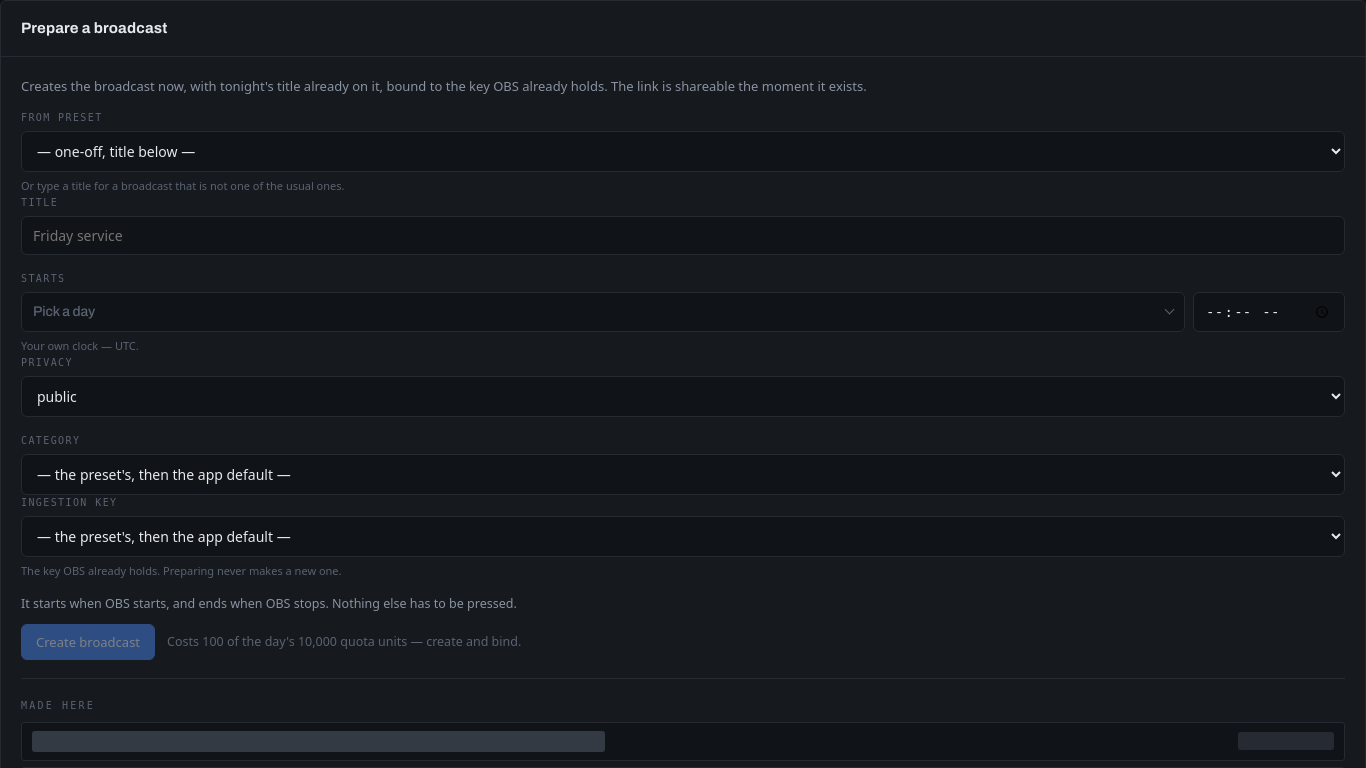
it: PrepareBroadcast › a templated preset › asks for the variables and shows the title as it will actually be created
Select "Service — {topic}" in the dropdown labelled "From preset" at (683, 152), box [21,131,1345,172]
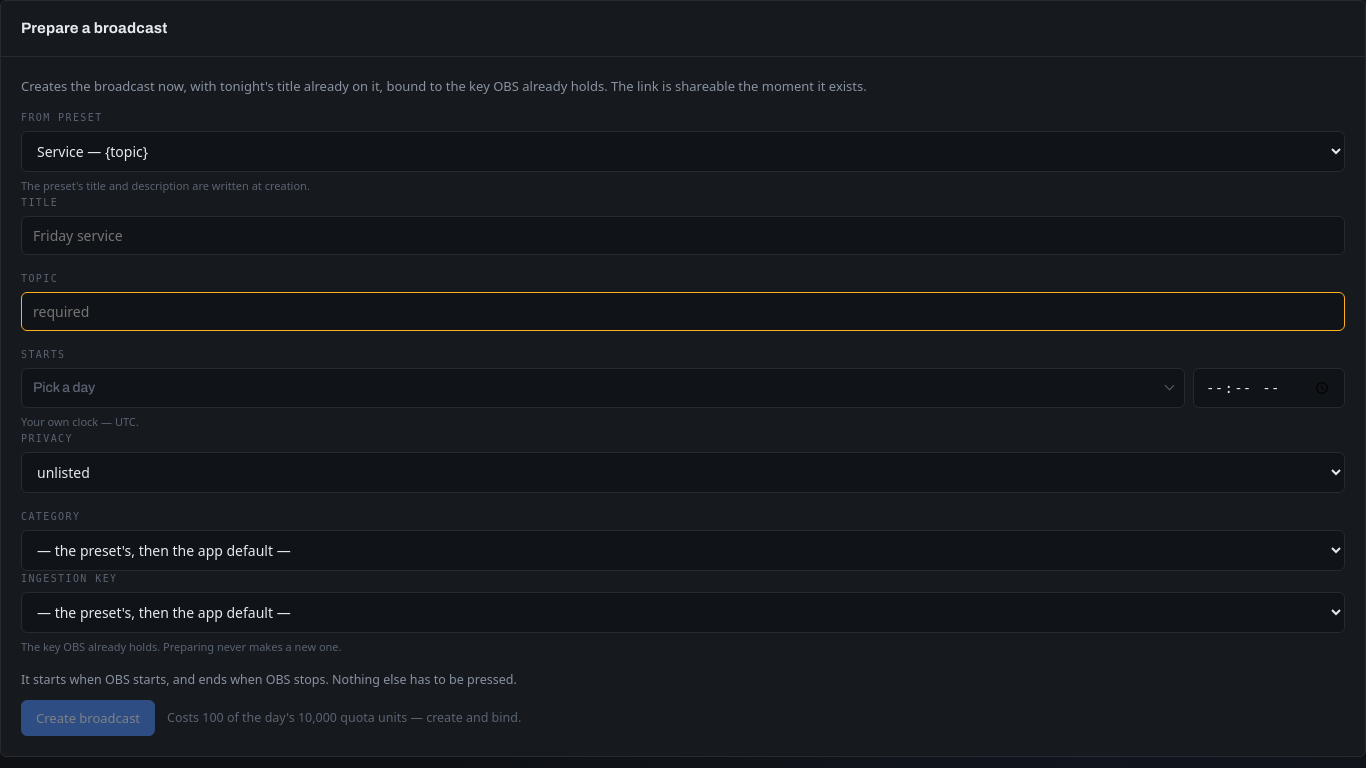
Click the button named "Starts ".
click(64, 388)  # box [21,368,1185,408]
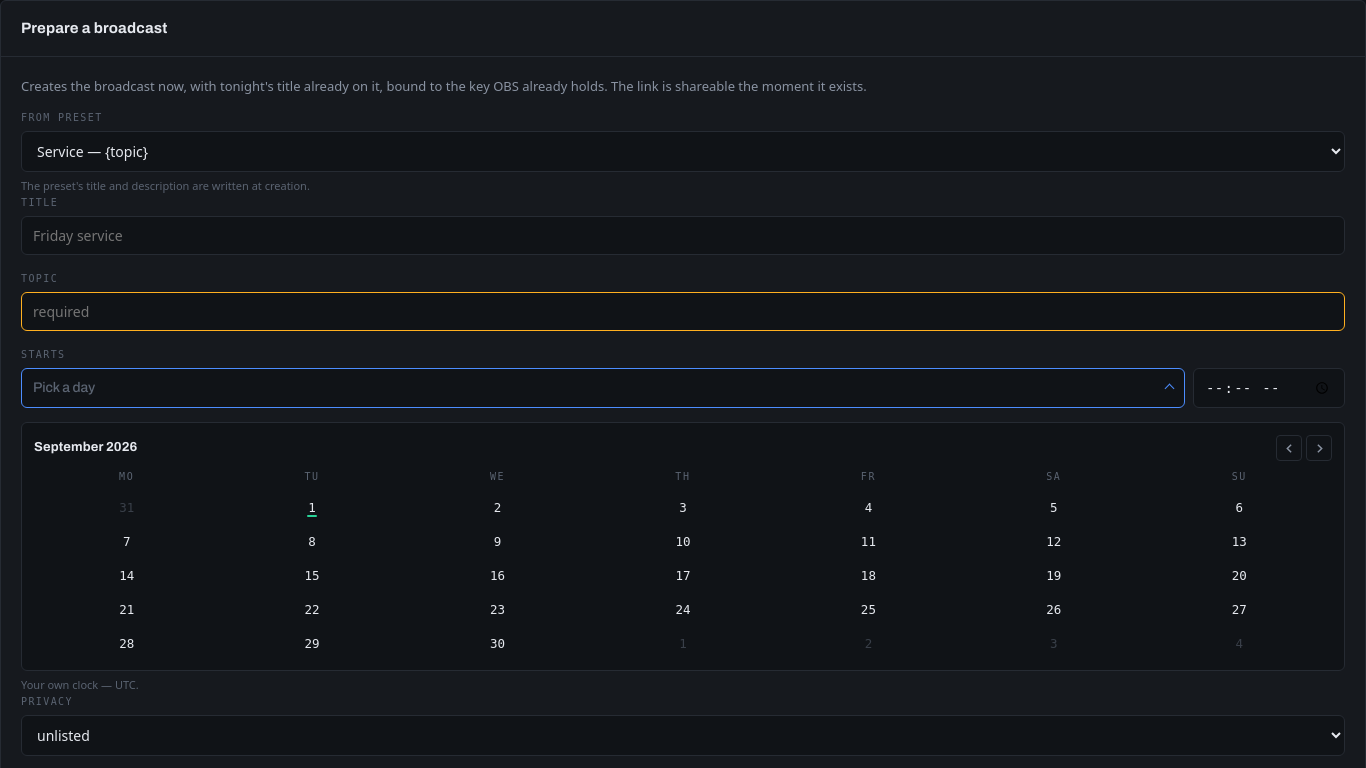
Click the button named "Friday, September 4th, 2026".
click(868, 507)  # box [777,491,960,523]
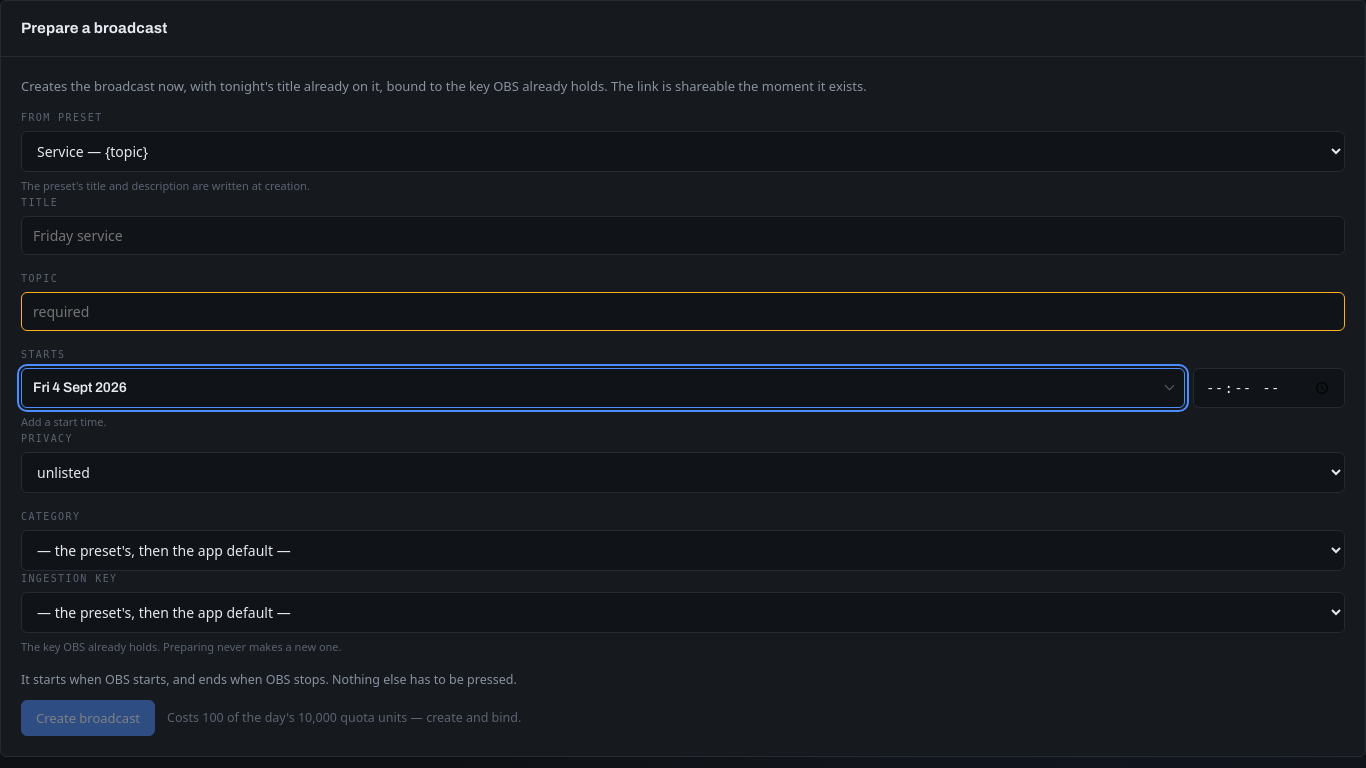
Type "19:00" into the time field named "Starts — time of day".
click(1269, 388); type("19:00")  # box [1193,368,1345,408]
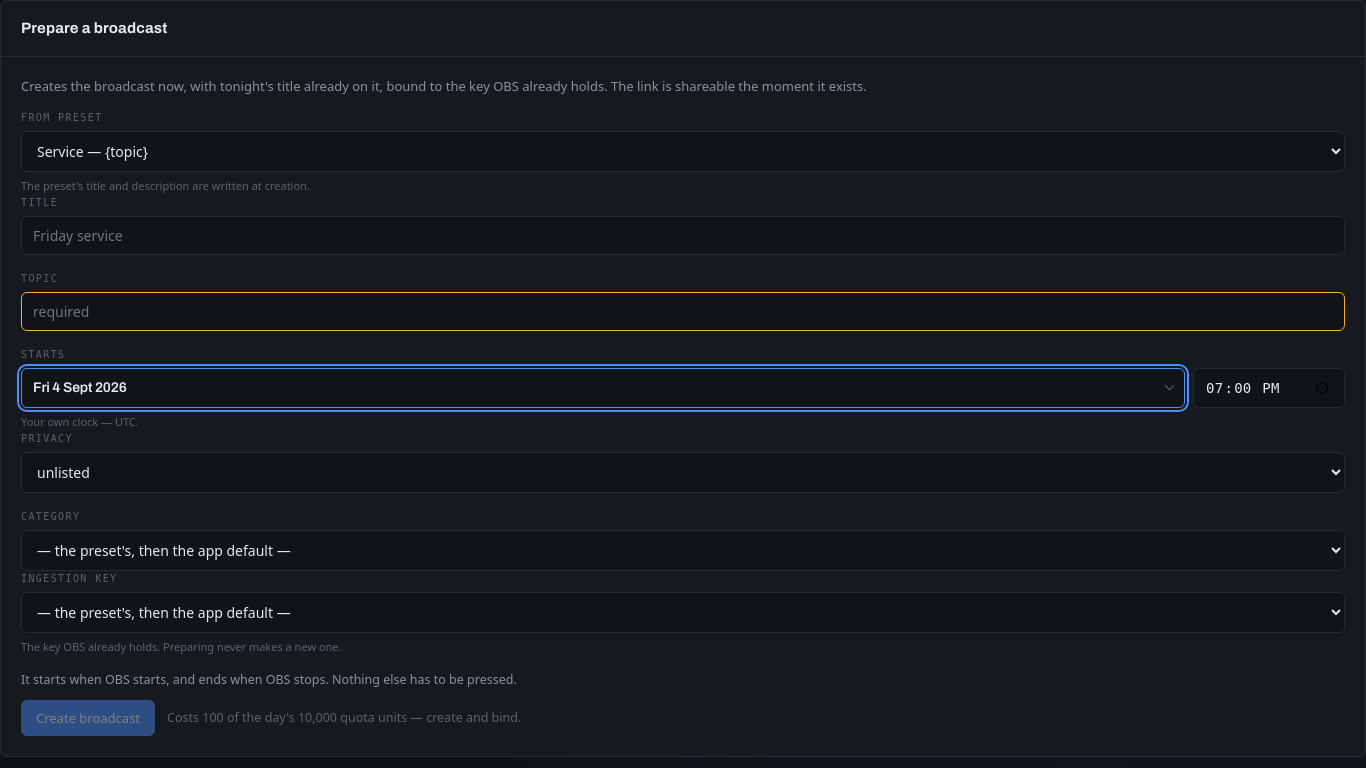
Expected: the button "Create broadcast" is disabled, [21,700,155,736]
Type "Harvest" into the field labelled "topic".
click(683, 311); type("Harvest")  # box [21,292,1345,330]
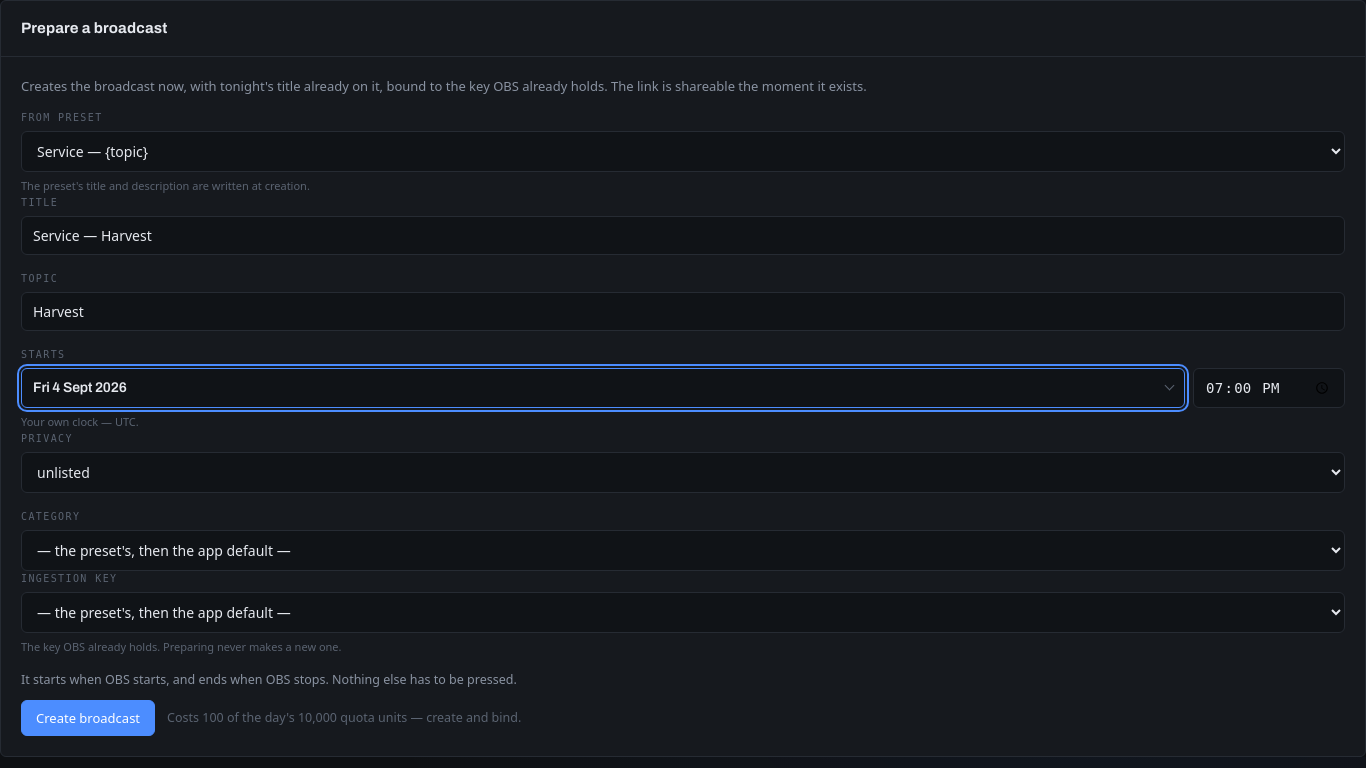
Result: the field labelled "Title" holds "Service — Harvest" at [21,216,1345,254]
Result: the button "Create broadcast" is enabled at [21,700,155,736]
